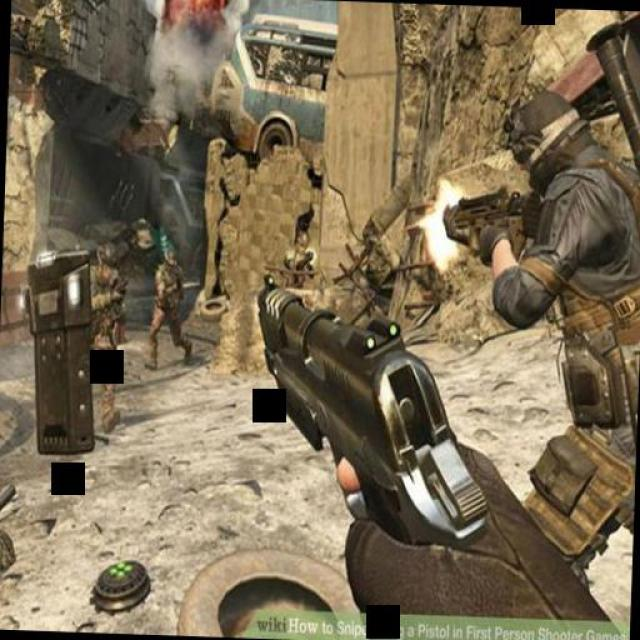gun: (242, 272, 500, 558)
